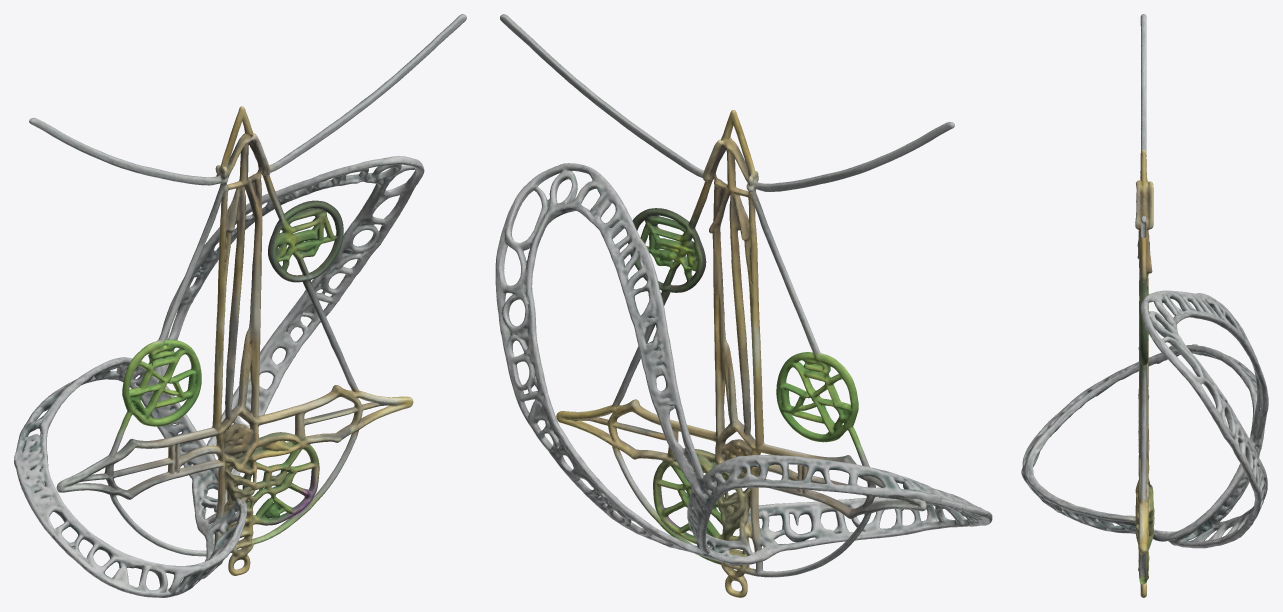
3 renders of one model, left to right at view 1: azimuth 30°, elevation 25°; view 2: azimuth 150°, elevation 25°; view 3: azimuth 270°, elevation 25°, orthographic. The views are drawn at different scales.
Visible parts, largest first — view 1: world; view 2: world; view 3: world.
Part boxes in pixels (left/top/right/bottom): world: left=14, top=14, right=466, bottom=597; world: left=495, top=14, right=992, bottom=597; world: left=1021, top=14, right=1268, bottom=597.
Bounding box in the file's own units: 0.2 × 0.2173 × 0.1004.
1 material, 1 textured.
